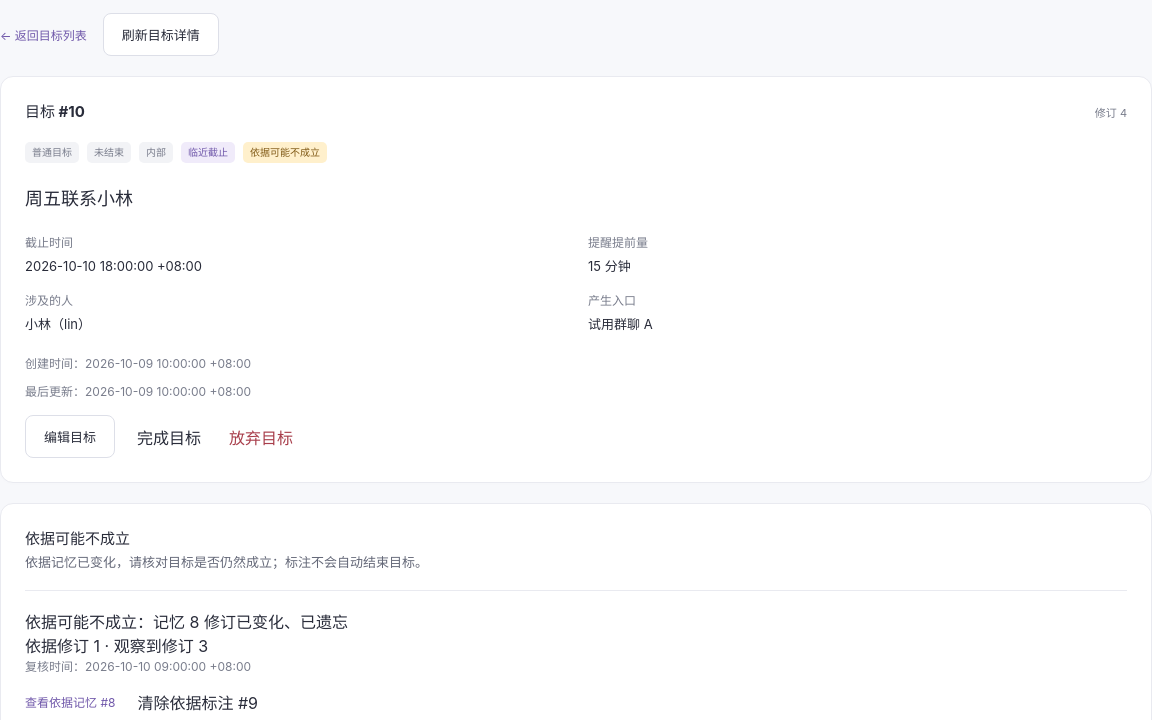
it: 依据复核指出记忆及变化；清除带修订与 CSRF，保持目标未结束
This screenshot has width=1152, height=720.
Check: the text "依据可能不成立：记忆 8 修订已变化、已遗忘" is shown, box left=25, top=612, right=348, bottom=632
Check: the text "依据修订 1 · 观察到修订 3" is shown, box left=25, top=636, right=208, bottom=656
Click the button "清除依据标注 #9". click: (198, 702)
box: left=131, top=689, right=264, bottom=715
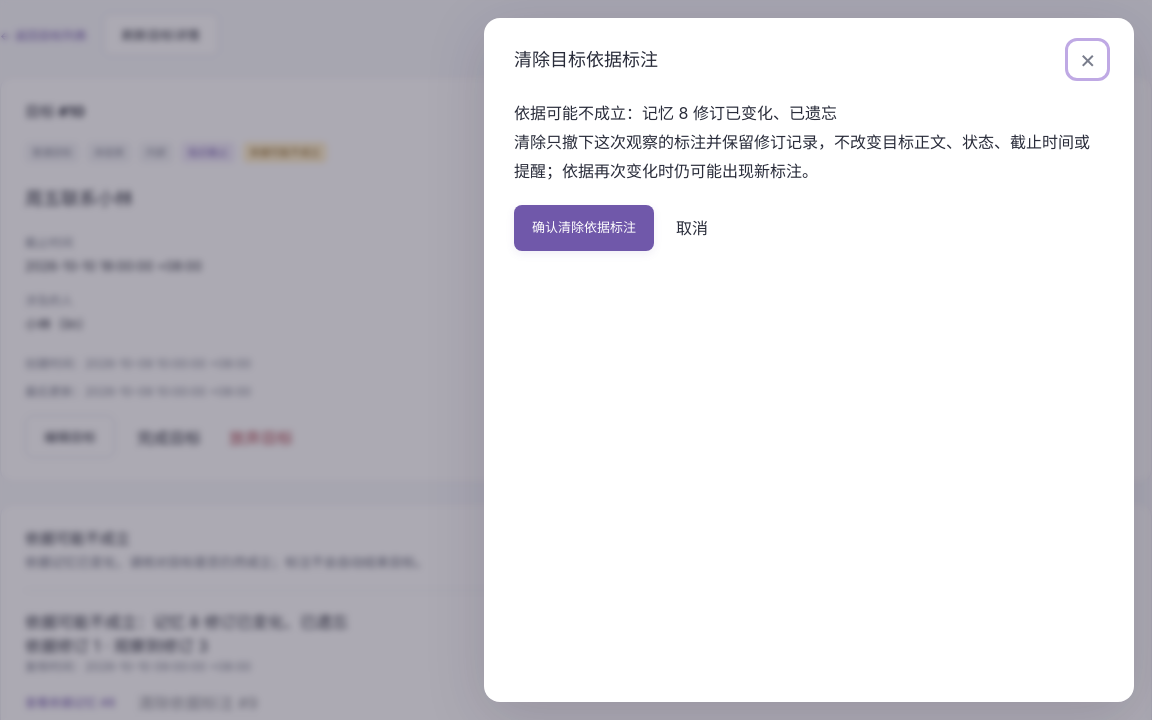
Check: the text "清除只撤下这次观察的标注并保留修订记录，不改变目标正文、状态、截止时间或提醒；依据再次变化时仍可能出现新标注。" is shown, box left=514, top=128, right=1104, bottom=185
Click the button "确认清除依据标注". click: (584, 228)
box: left=514, top=205, right=654, bottom=251
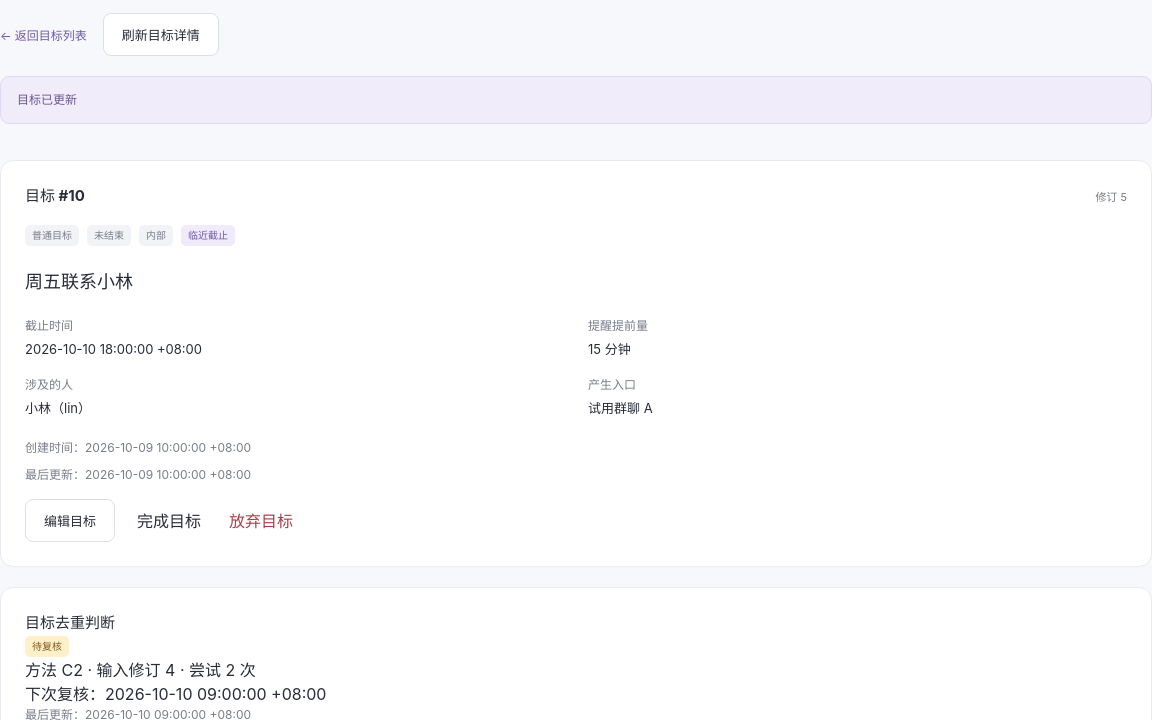
Check: the text "未结束" is shown, box left=87, top=225, right=131, bottom=246
Check: the text "记忆 8 修订已变化、已遗忘" is gone
